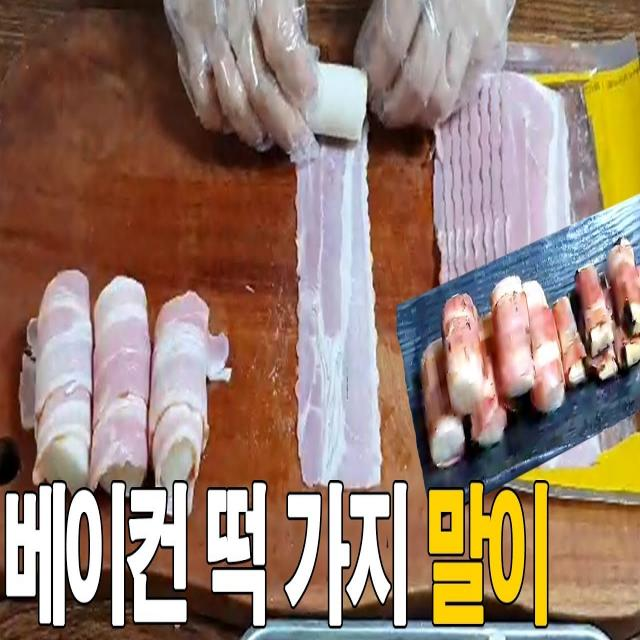bacon: (28, 269, 214, 445), (296, 126, 382, 487), (435, 70, 572, 280)
